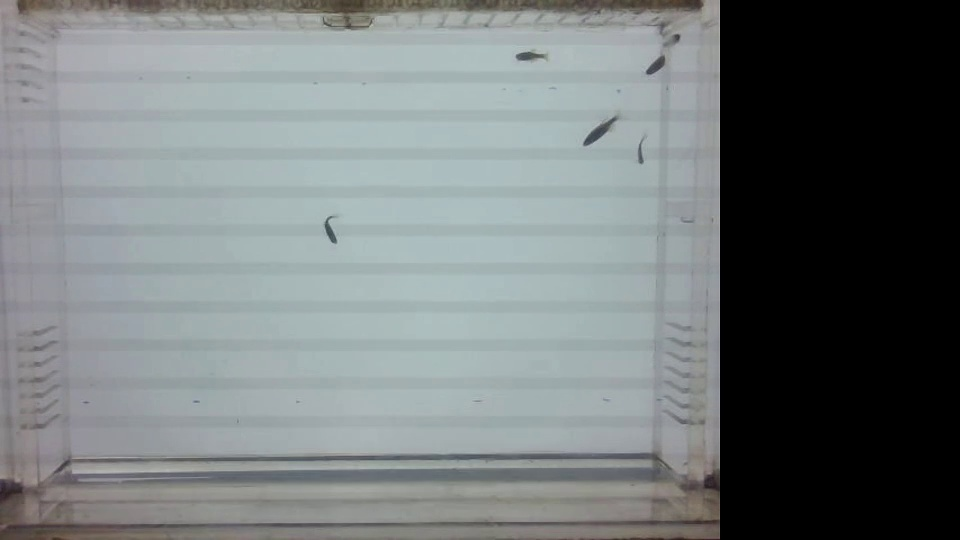fish: (574, 109, 624, 152), (316, 208, 350, 248), (628, 126, 656, 172), (504, 44, 550, 68), (640, 54, 661, 80), (660, 30, 681, 56)
